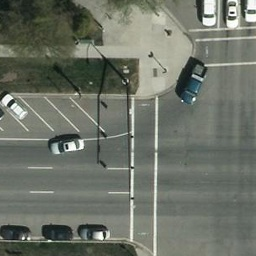car: (180, 61, 208, 105), (1, 89, 31, 119), (47, 138, 87, 155), (75, 224, 111, 242), (41, 223, 72, 242), (1, 224, 28, 242), (201, 1, 218, 27), (225, 1, 239, 29), (242, 1, 256, 26)
